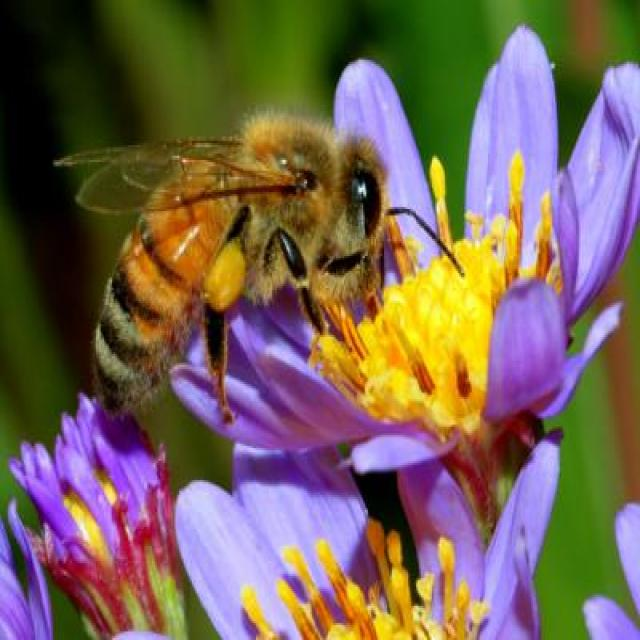antennae: (388, 202, 464, 286)
body: (92, 119, 387, 417)
insect: (51, 114, 465, 430)
legs: (204, 208, 265, 424), (264, 226, 330, 344), (318, 239, 382, 304)
wings: (76, 148, 316, 213), (52, 130, 250, 169)
